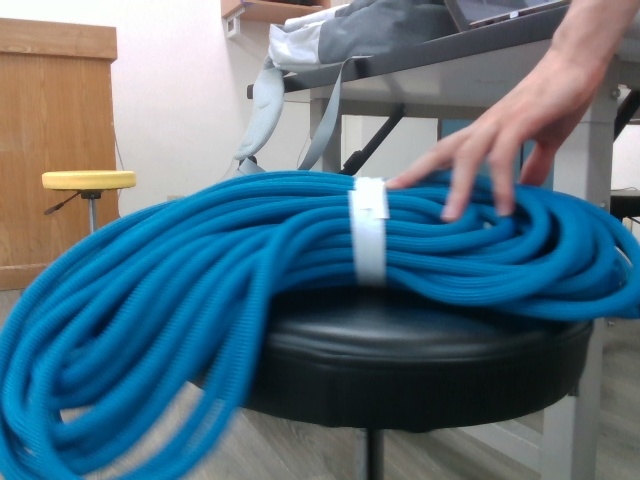rope: (3, 165, 640, 480)
